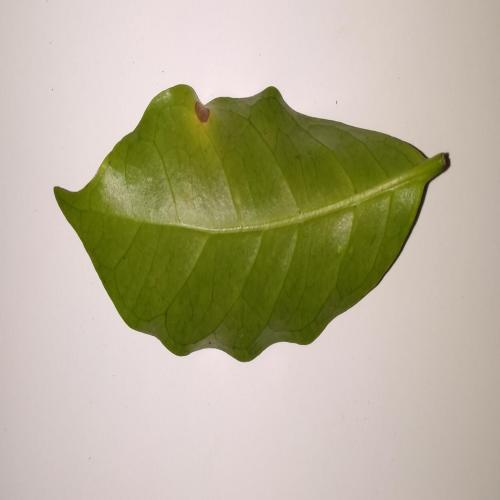cercospora: (194, 100, 211, 124)
